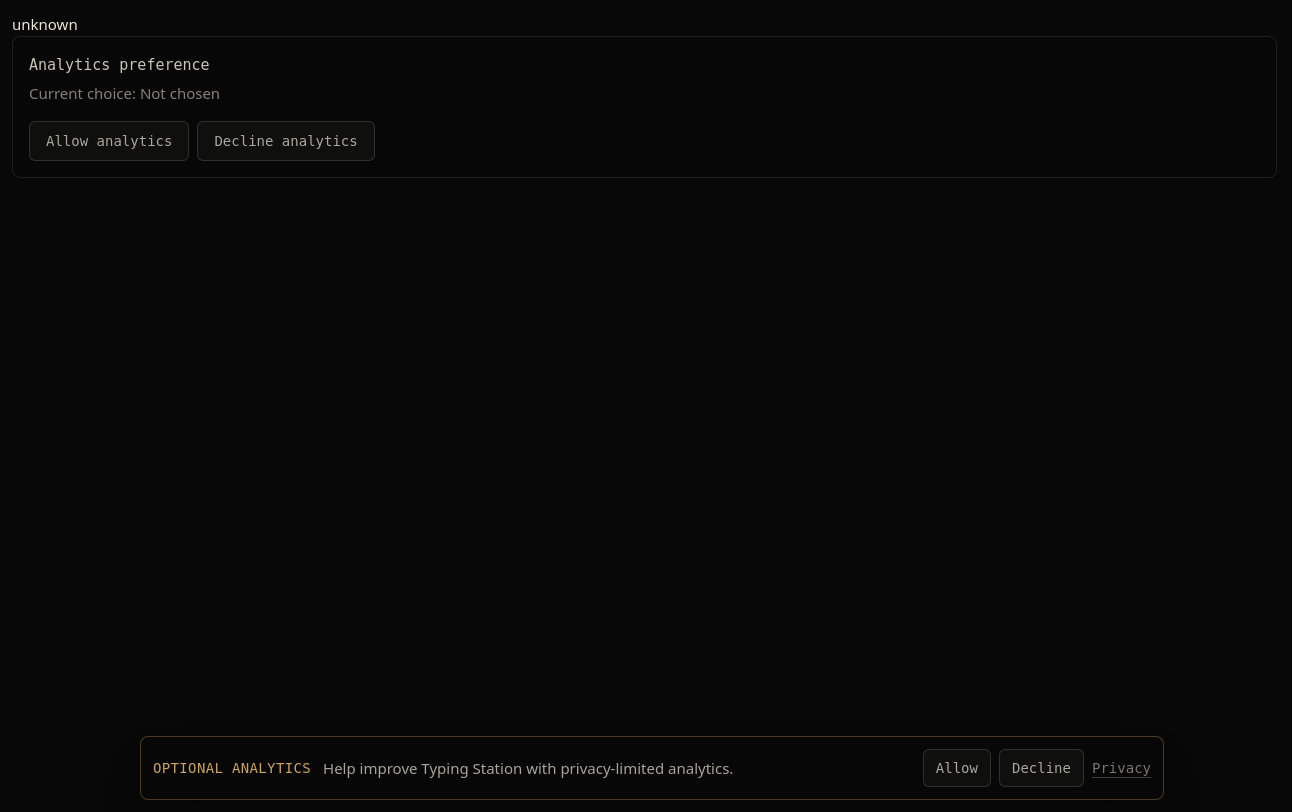
AnalyticsConsentProvider › does not reload on a first decline
Expected: the text with test id "consent-probe" reads "unknown", [12,14,78,34]
Click the button with aria-label "Decline analytics" at (1042, 768), box [999,749,1084,787]
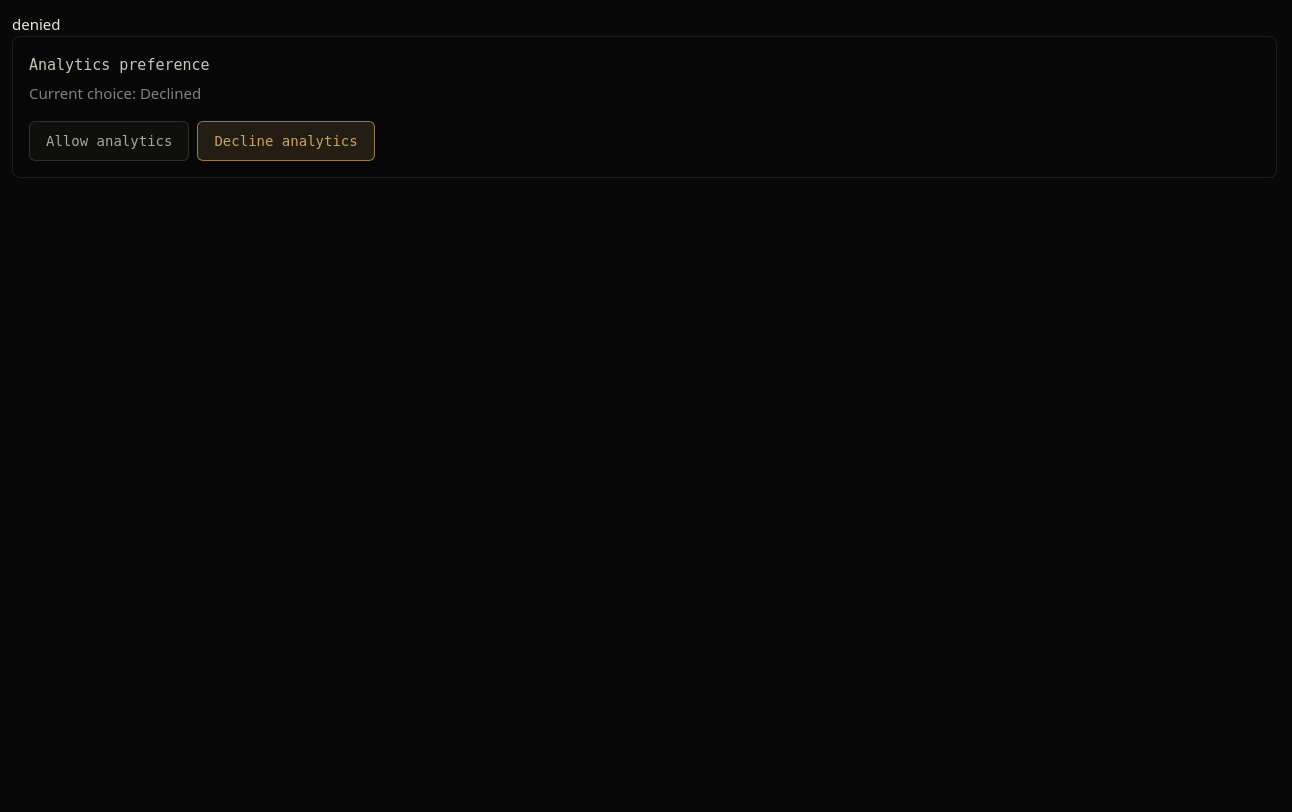
Now the text with test id "consent-probe" reads "denied", box [12,14,60,34]
